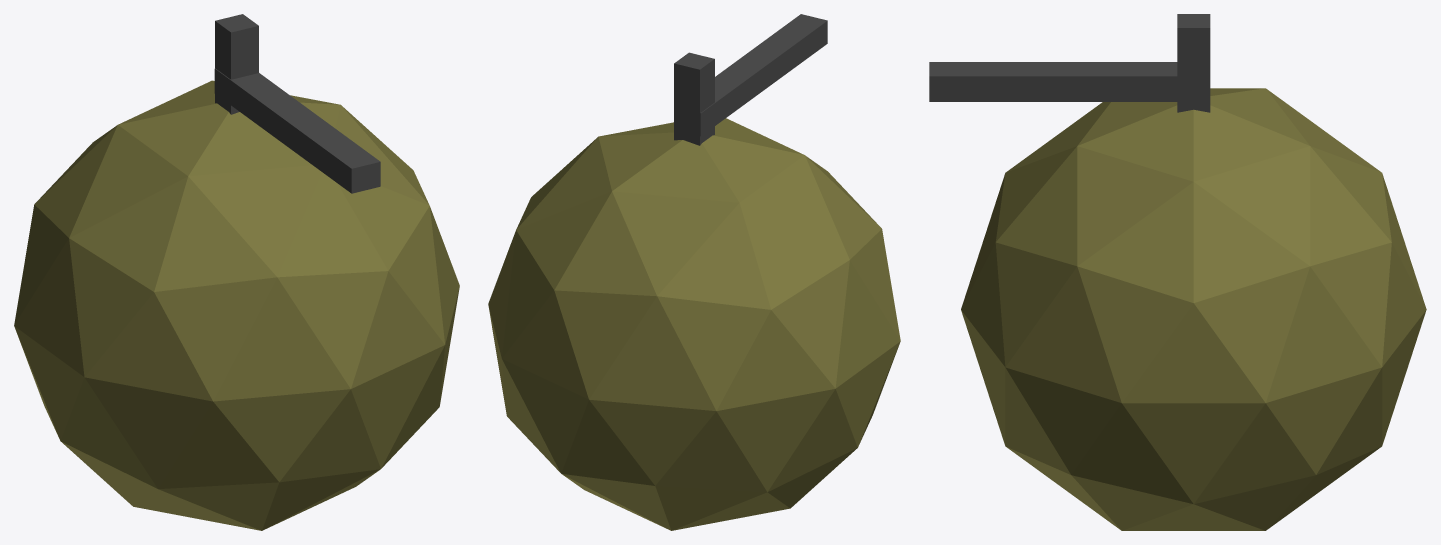
Rendered from grenadeTest.fbx.
3 renders of one model, left to right at view 1: azimuth 30°, elevation 25°; view 2: azimuth 150°, elevation 25°; view 3: azimuth 270°, elevation 25°, orthographic. The views are drawn at different scales.
Parts seen in each view (by area): view 1: Icosphere, Cube.001, Cube; view 2: Icosphere, Cube.001, Cube; view 3: Icosphere, Cube.001, Cube.
Part boxes in pixels (x1=…): Icosphere: x1=14, y1=80, x2=459, y2=530; Cube.001: x1=214, y1=68, x2=380, y2=193; Cube: x1=215, y1=14, x2=258, y2=114; Icosphere: x1=488, y1=118, x2=900, y2=530; Cube.001: x1=700, y1=14, x2=827, y2=136; Cube: x1=674, y1=52, x2=714, y2=145; Icosphere: x1=961, y1=88, x2=1426, y2=530; Cube.001: x1=929, y1=62, x2=1208, y2=101; Cube: x1=1177, y1=14, x2=1210, y2=112.
Size of the model in its own units: 190 by 237 by 214.
